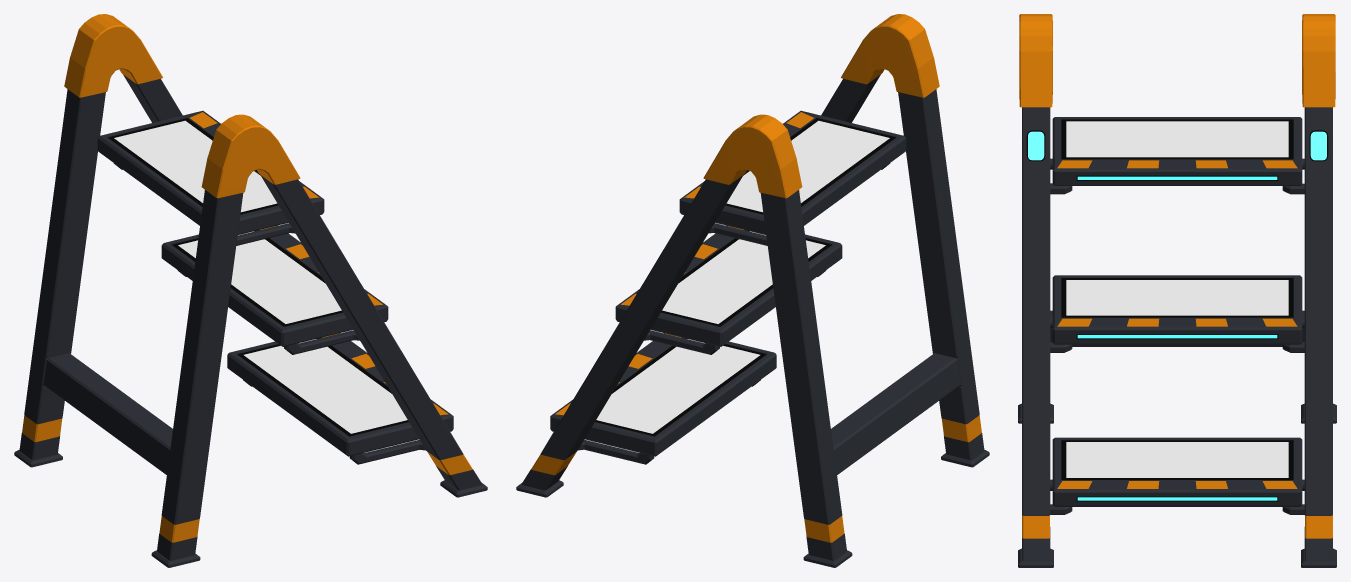
Rendered from step_ladder.glb.
3 renders of one model, left to right at view 1: azimuth 30°, elevation 25°; view 2: azimuth 150°, elevation 25°; view 3: azimuth 270°, elevation 25°, orthographic. The views are drawn at different scales.
Parts seen in each view (by area): view 1: SM_Step_Ladder; view 2: SM_Step_Ladder; view 3: SM_Step_Ladder.
Part boxes in pixels (box(x1,y1,x2,y2)): SM_Step_Ladder: box(14, 14, 487, 567); SM_Step_Ladder: box(516, 14, 989, 567); SM_Step_Ladder: box(1018, 14, 1336, 567).
Size of the model in its own units: 0.6716 by 0.845 by 0.5635.
